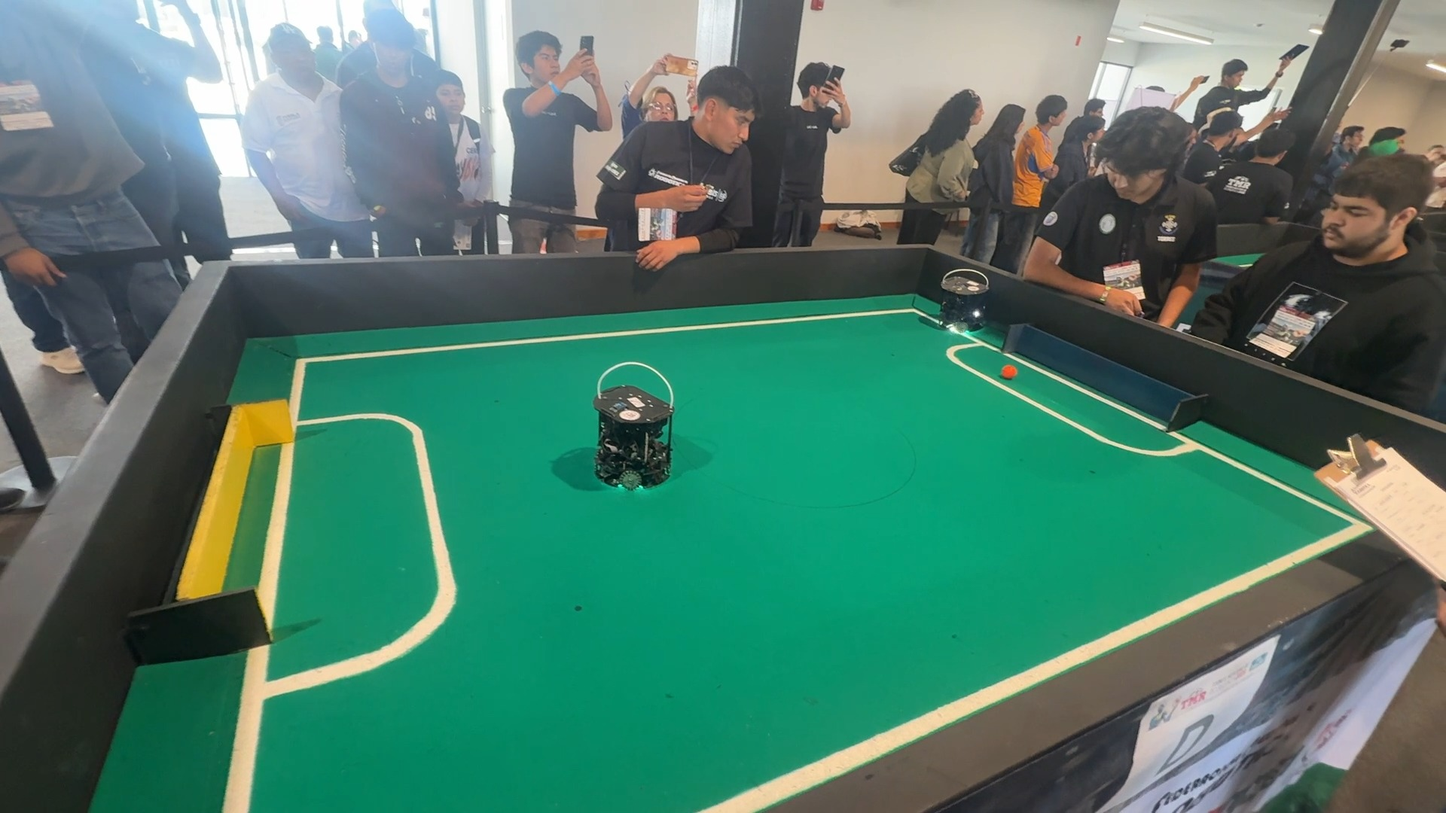Robot: (554, 363, 718, 508), (918, 266, 997, 339)
pelota: (1000, 358, 1021, 383)
